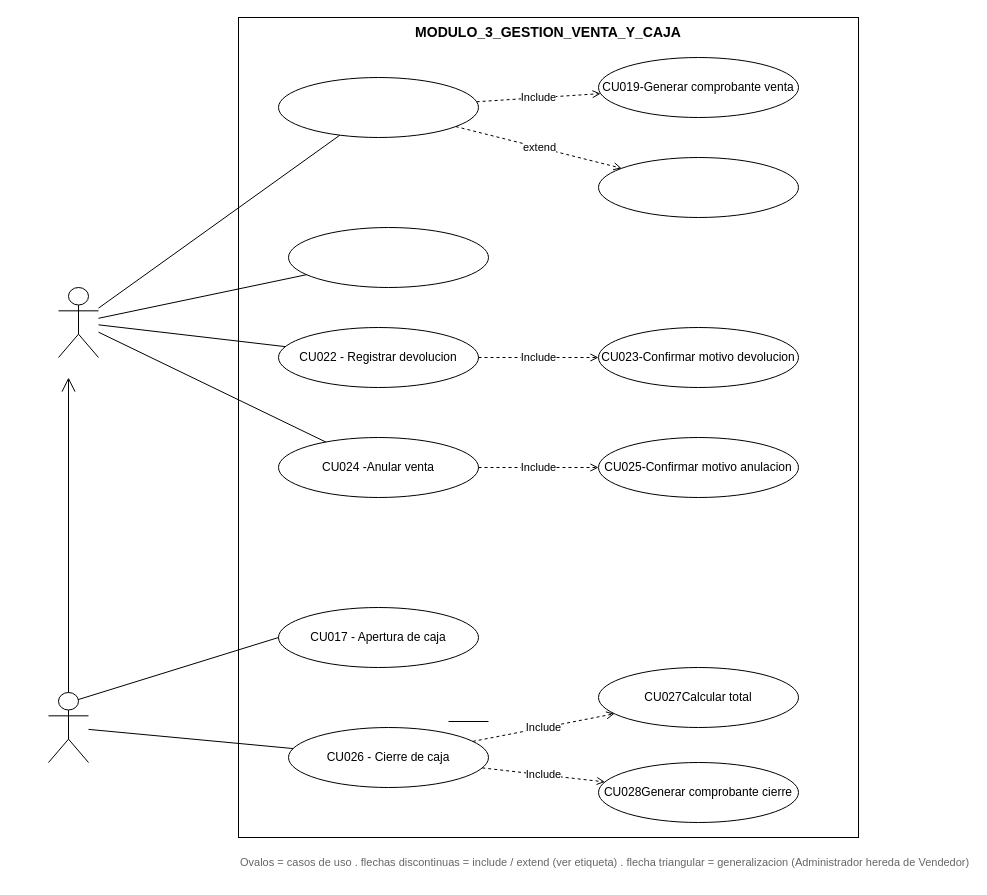
The diagram is 987 pixels wide and 895 high, and some of its shapes have lost their labels. Each missing label, with the box of its shape:
ADMINISTRADOR: (48, 692, 88, 762)
CAJERO: (58, 286, 98, 358)
CU018 - Registrar venta: (278, 76, 478, 138)
CU020-Pago QR (Nequi/Daviplata): (598, 156, 798, 218)
CU021 - Consultar ventas: (288, 226, 488, 288)
